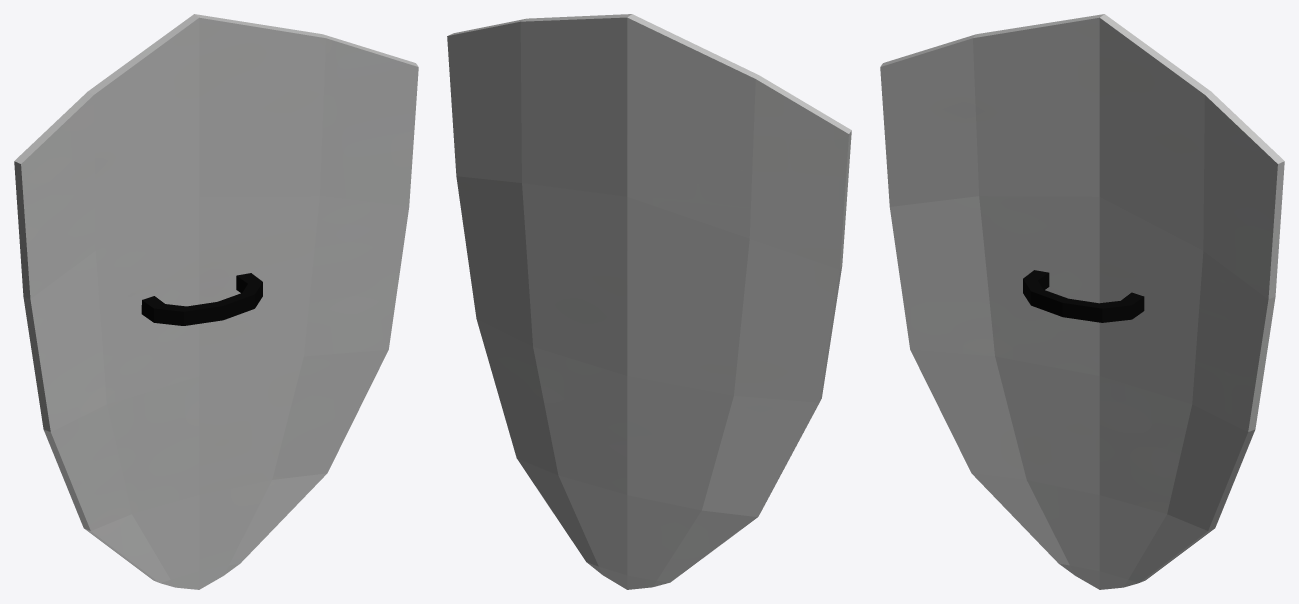
File: Shield_3.fbx
3 renders of one model, left to right at view 1: azimuth 30°, elevation 25°; view 2: azimuth 150°, elevation 25°; view 3: azimuth 330°, elevation 25°, orthographic.
Parts seen in each view (by area): view 1: Shield 3; view 2: Shield 3; view 3: Shield 3.
Part boxes in pixels (bbox=[...]): Shield 3: bbox=[14, 14, 418, 589]; Shield 3: bbox=[447, 14, 851, 589]; Shield 3: bbox=[880, 14, 1284, 589].
Bounding box in the file's own units: 46.73 × 63.61 × 7.15.
